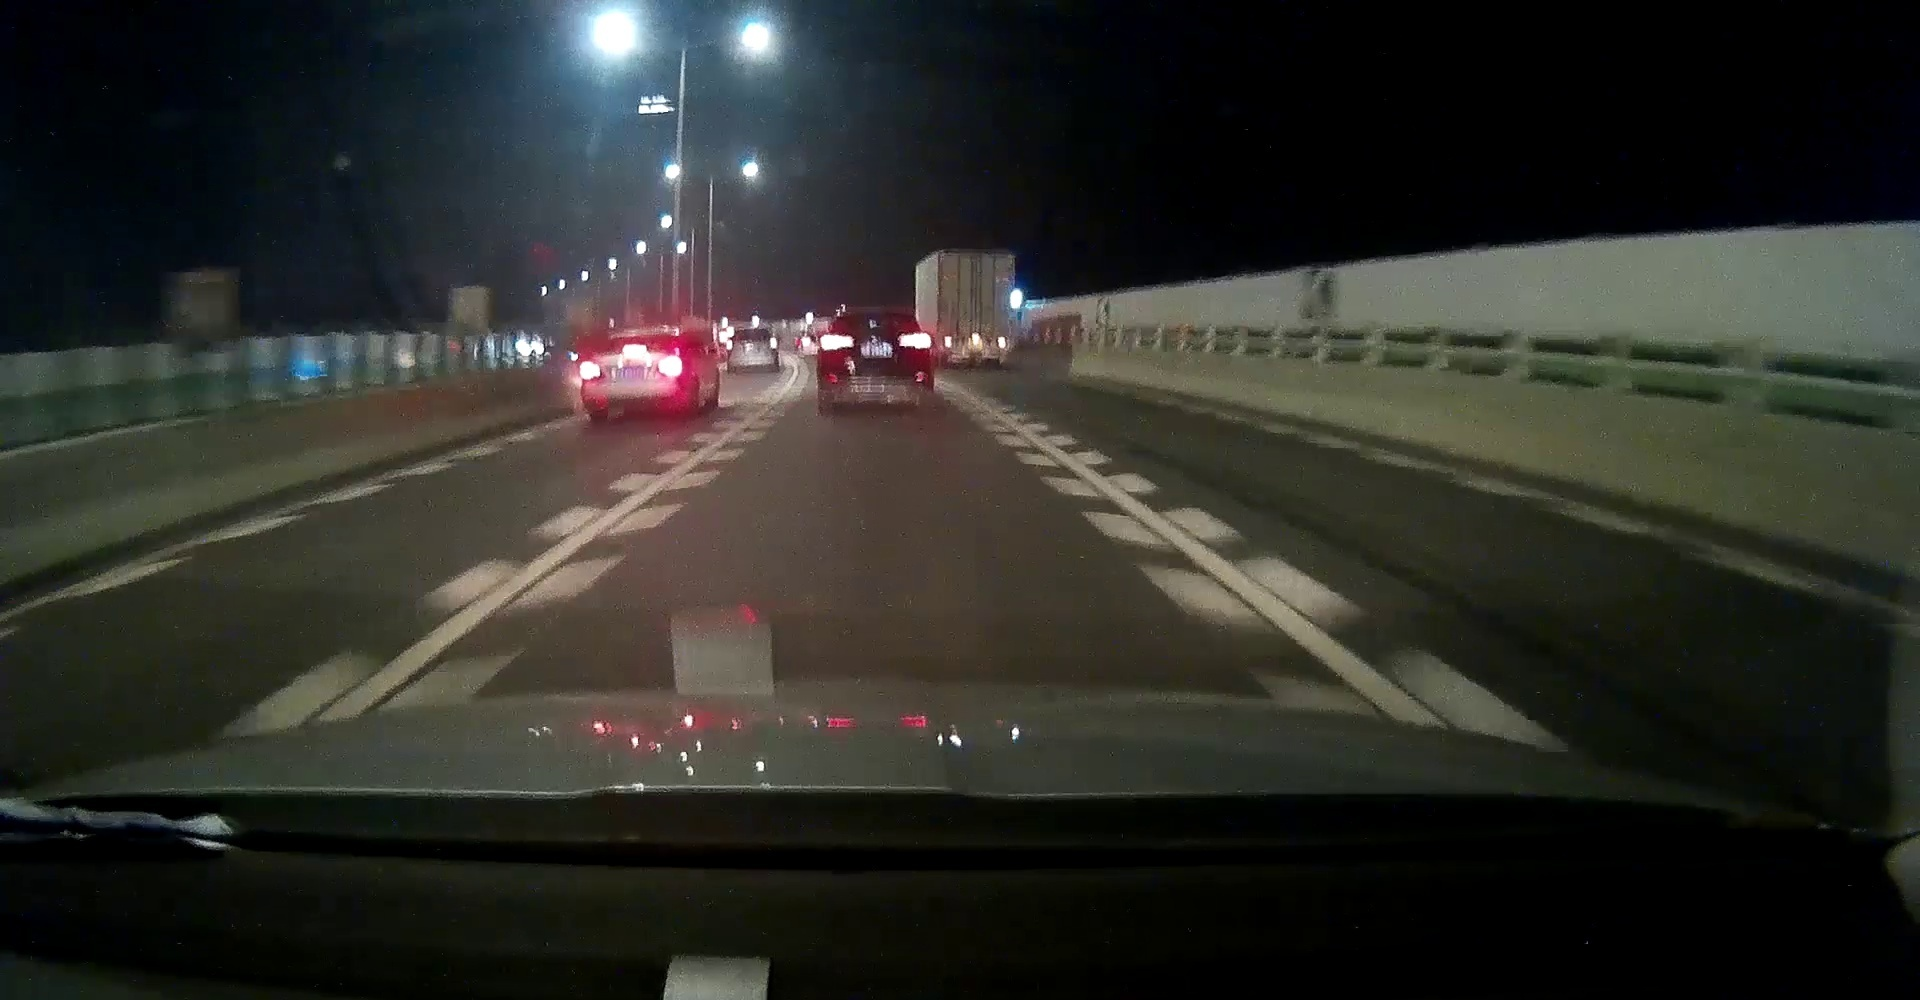L_light: (819, 334, 855, 352), (580, 362, 604, 379), (945, 336, 952, 348), (726, 340, 731, 350)
R_light: (899, 332, 931, 348), (658, 359, 682, 377), (998, 336, 1006, 348), (770, 338, 777, 348)
T_light: (623, 345, 646, 352), (869, 319, 885, 324), (969, 256, 982, 259), (747, 330, 757, 332)
night-brake: (579, 329, 686, 421)
night-no: (817, 312, 933, 412), (937, 250, 1015, 371), (726, 329, 778, 373)
